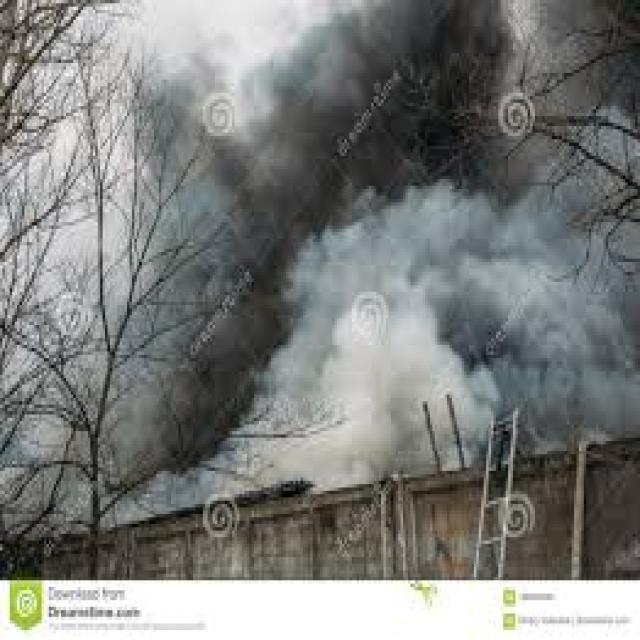Smoke: (29, 1, 640, 516)
